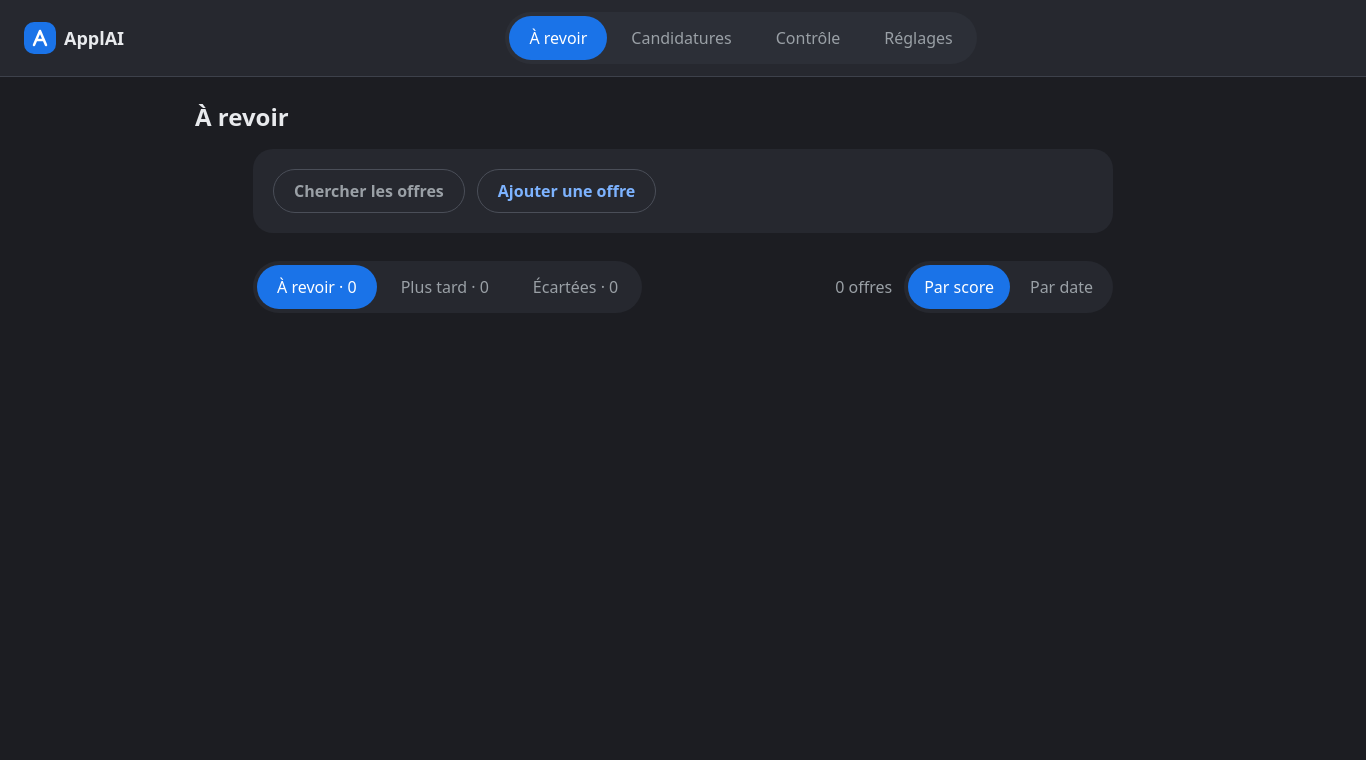
Scenario: FinalValidationScreen › shows clean message when no problem, omits screenshot when absent, and alerts on load error
This screenshot has width=1366, height=760.
Click the button "Candidatures": click(682, 38) [611, 16, 752, 60]
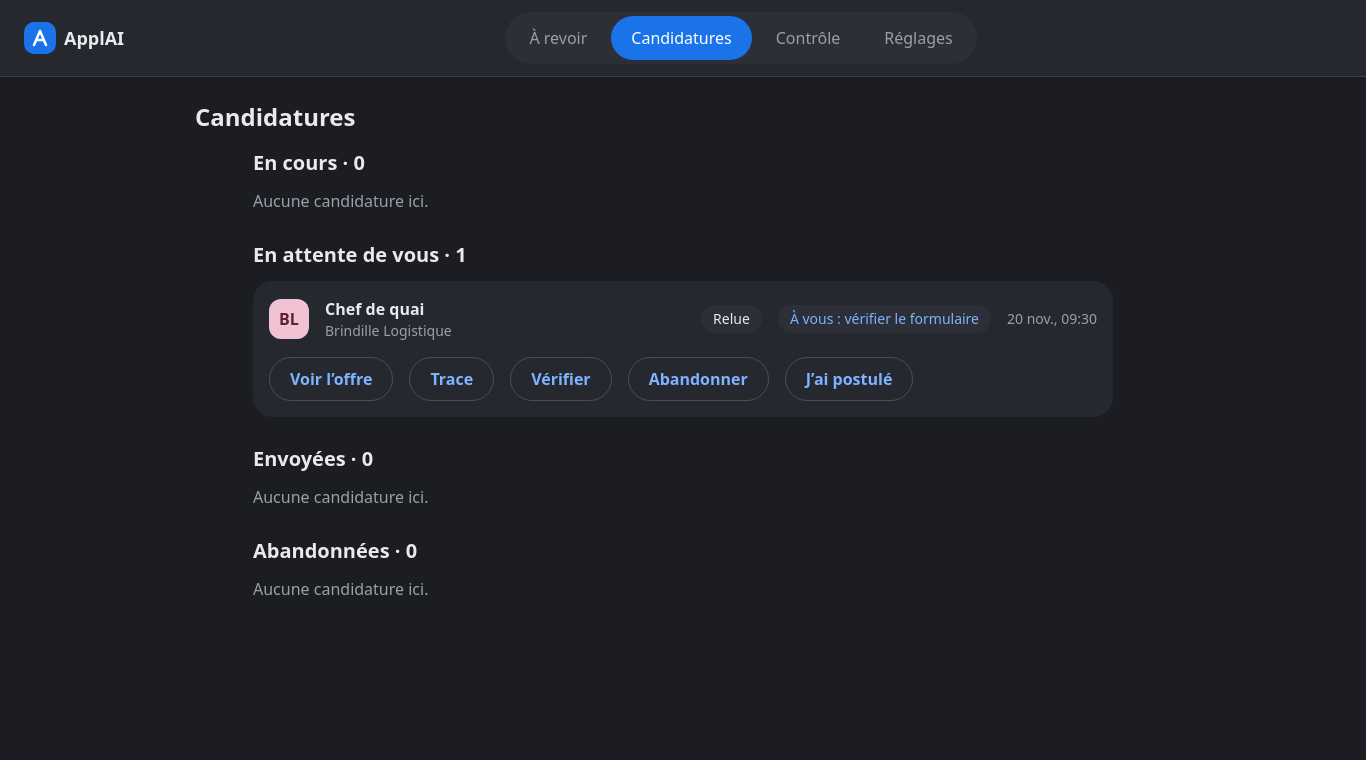
Click the button "Vérifier": click(561, 379) [510, 357, 612, 401]
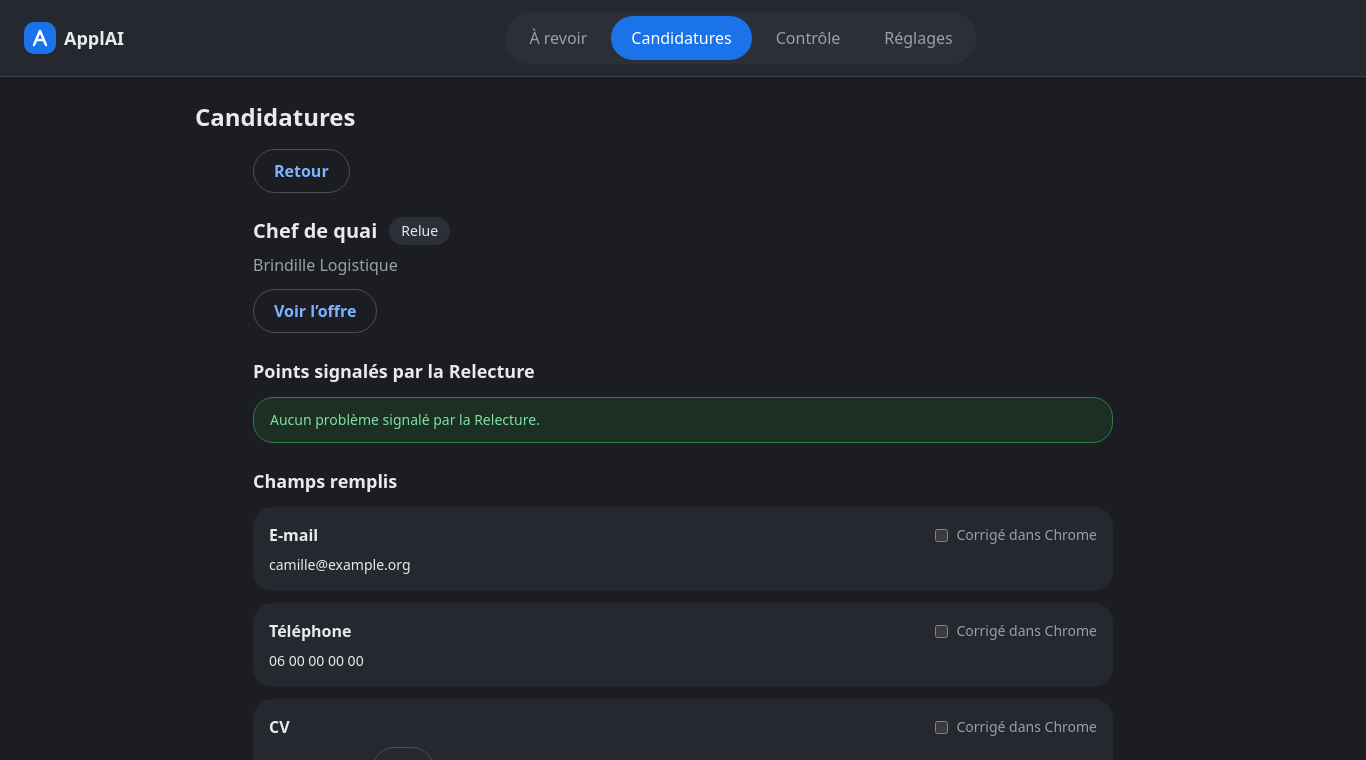
Now the heading "Chef de quai" is shown, box [253, 217, 377, 245]
Now the text "Aucun problème signalé par la Relecture." is shown, box [253, 397, 1113, 443]
Click the button "Retour": click(301, 171) [253, 149, 350, 193]
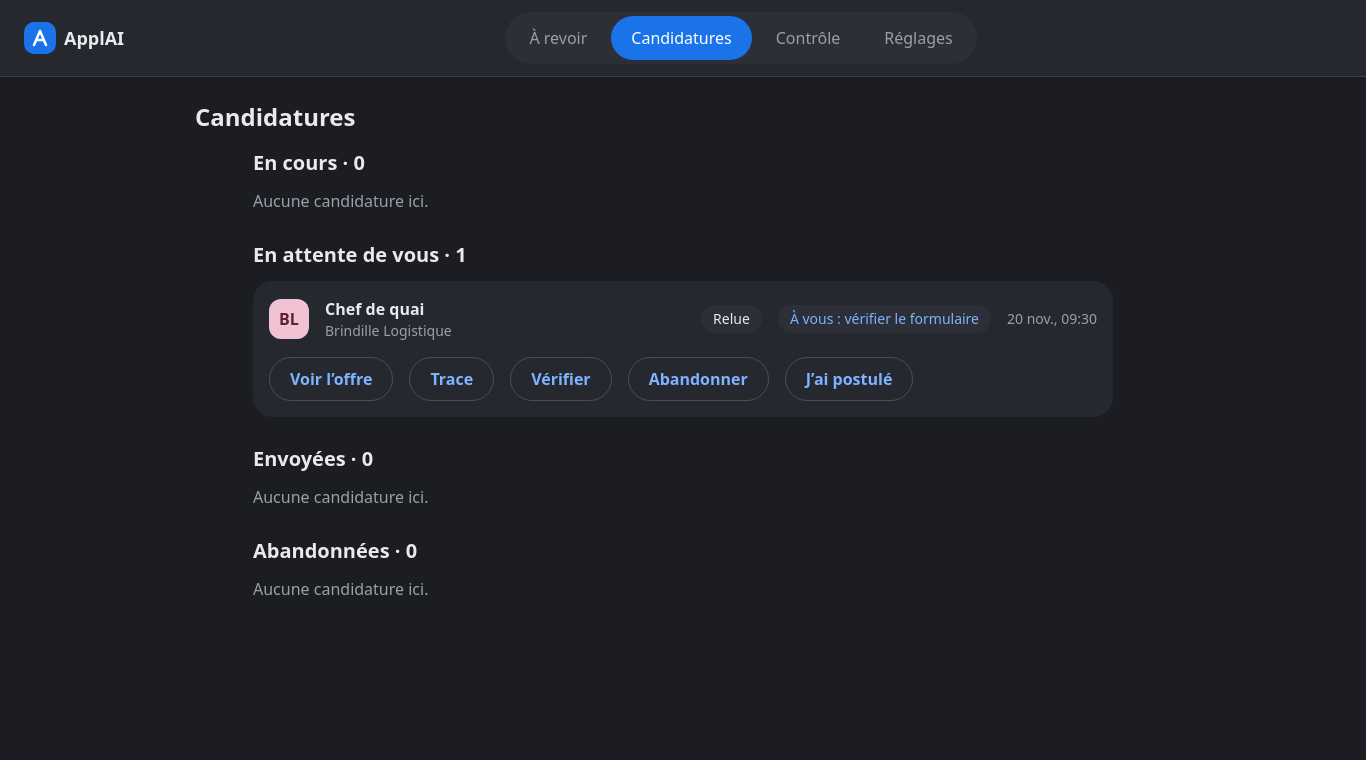
Click the button "Vérifier": click(561, 379) [510, 357, 612, 401]
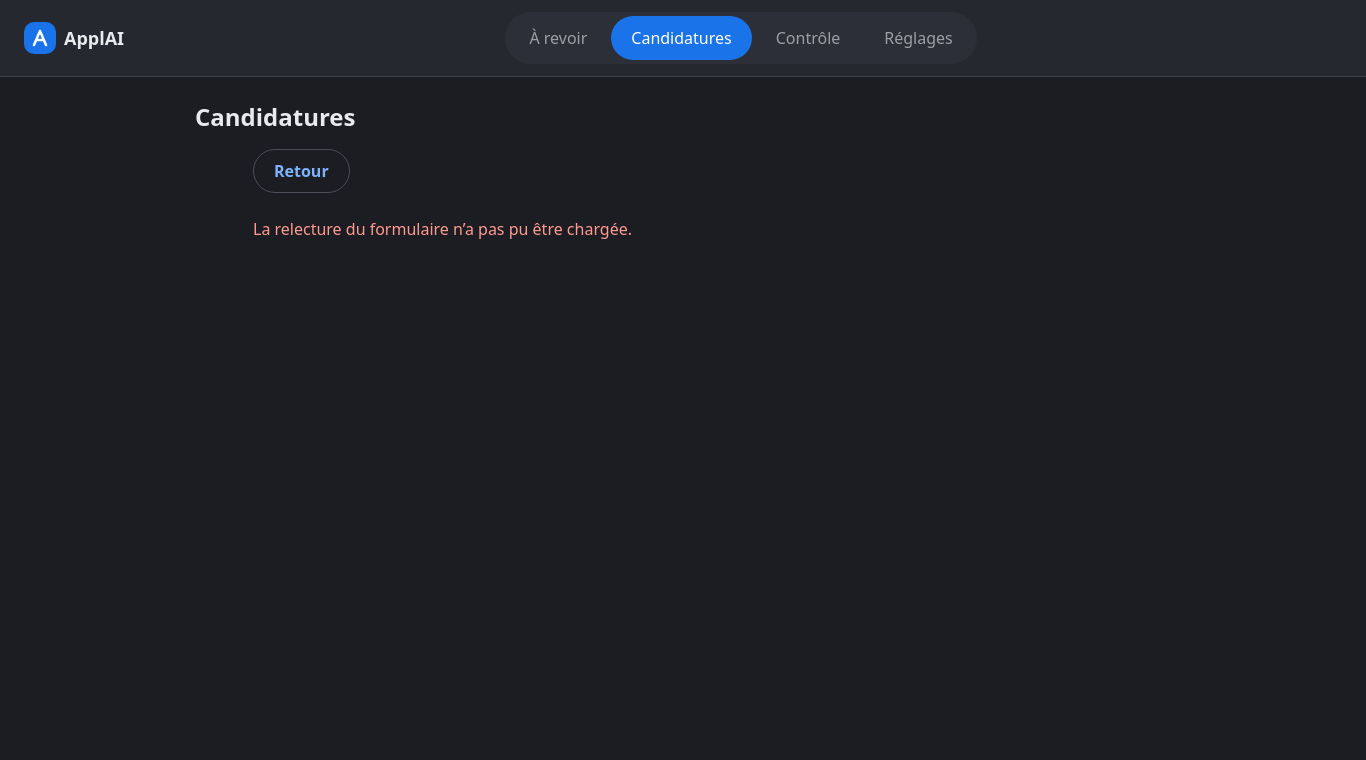
Now the message reads "La relecture du formulaire n’a pas pu être chargée.", box [253, 218, 632, 240]
